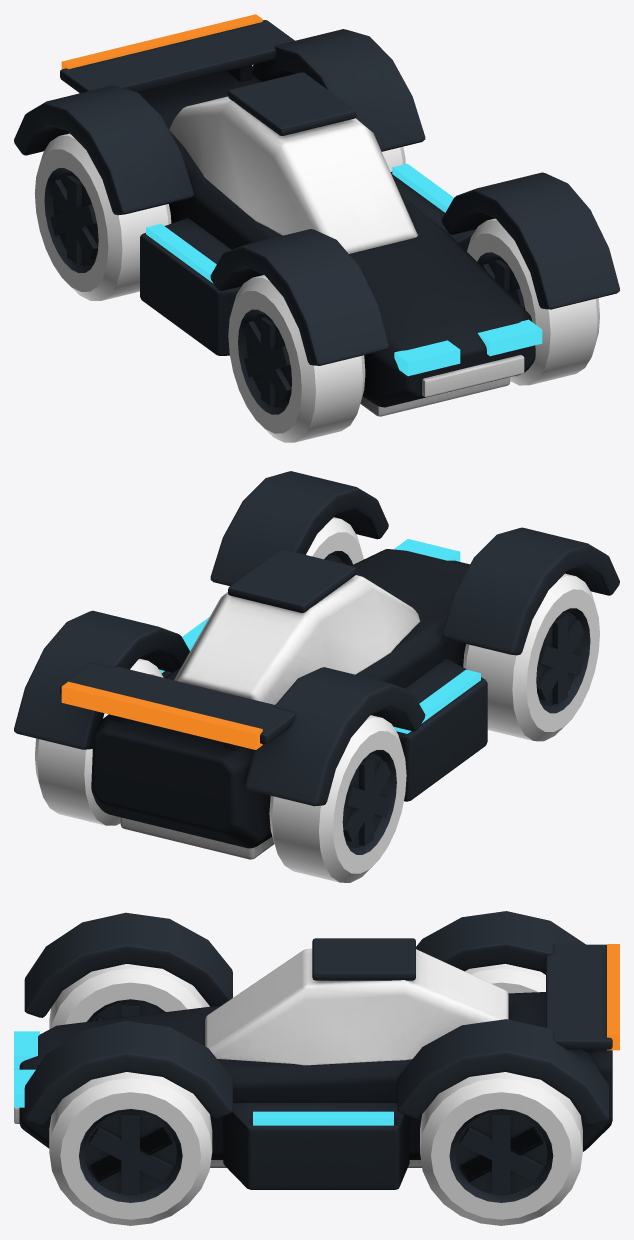
File: car.glb
3 renders of one model, top to bottom at view 1: azimuth 30°, elevation 25°; view 2: azimuth 150°, elevation 25°; view 3: azimuth 270°, elevation 25°, orthographic. The views are drawn at different scales.
Parts seen in each view (by area): view 1: body, wheel-fr, wheel-rr, wheel-fl; view 2: body, wheel-rr, wheel-fr, wheel-rl, wheel-fl; view 3: body, wheel-fl, wheel-rl, wheel-fr, wheel-rr.
Part boxes in pixels (<box>): body: <box>14,14,619,416</box>; wheel-fr: <box>228,275,365,442</box>; wheel-rr: <box>34,133,171,300</box>; wheel-fl: <box>467,218,599,385</box>; body: <box>14,471,619,859</box>; wheel-rr: <box>269,715,406,882</box>; wheel-fr: <box>463,573,599,741</box>; wheel-rl: <box>35,659,163,825</box>; wheel-fl: <box>306,517,363,565</box>; body: <box>14,911,619,1189</box>; wheel-fl: <box>49,1072,212,1225</box>; wheel-rl: <box>420,1072,582,1225</box>; wheel-fr: <box>49,964,209,1029</box>; wheel-rr: <box>465,964,545,993</box>.
Bounding box in the file's own units: 0.91 × 0.61 × 1.63.
5 materials, 3 textured.
